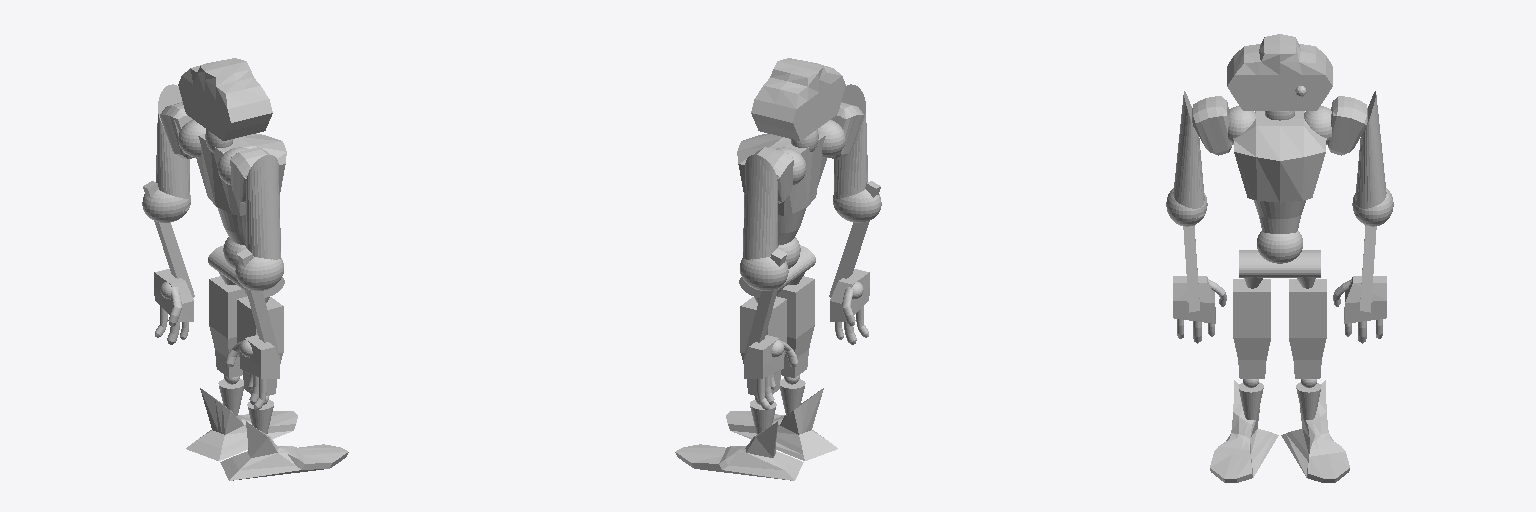
File: Greg.obj
3 renders of one model, left to right at view 1: azimuth 30°, elevation 25°; view 2: azimuth 150°, elevation 25°; view 3: azimuth 270°, elevation 25°, orthographic.
Parts seen in each view (by area): view 1: Cube.001, Cube.007, Cylinder.002, Cube, Cube.004, Cube.005, Cube.002, Cube.003, Sphere.001, Cylinder, Cylinder.001; view 2: Cube.001, Cube.007, Cylinder.002, Cube, Cube.004, Cube.005, Cube.002, Cube.003, Sphere.001, Cylinder, Cylinder.001; view 3: Cube, Cube.007, Cube.002, Cube.001, Cylinder.002, Cube.005, Cube.003, Cube.004, Cylinder, Cylinder.001, Sphere.001, Sphere.
Boxes of the visible parts, <box> form: Cube.001: <box>186,388,348,480</box>; Cube.007: <box>178,58,272,140</box>; Cylinder.002: <box>156,84,280,259</box>; Cube: <box>209,276,283,433</box>; Cube.004: <box>142,181,283,360</box>; Cube.005: <box>154,269,279,409</box>; Cube.002: <box>196,133,286,215</box>; Cube.003: <box>160,102,269,203</box>; Sphere.001: <box>178,120,247,184</box>; Cylinder: <box>208,245,284,297</box>; Cylinder.001: <box>217,207,245,245</box>; Cube.001: <box>675,388,837,480</box>; Cube.007: <box>751,58,845,140</box>; Cylinder.002: <box>743,84,867,259</box>; Cube: <box>740,276,814,433</box>; Cube.004: <box>740,181,881,360</box>; Cube.005: <box>744,269,869,409</box>; Cube.002: <box>737,133,826,215</box>; Cube.003: <box>754,102,863,203</box>; Sphere.001: <box>776,120,845,184</box>; Cylinder: <box>739,245,815,297</box>; Cylinder.001: <box>778,207,806,245</box>; Cube: <box>1233,279,1326,419</box>; Cube.007: <box>1227,34,1332,110</box>; Cube.002: <box>1233,111,1326,202</box>; Cube.001: <box>1210,380,1349,482</box>; Cylinder.002: <box>1173,91,1386,218</box>; Cube.005: <box>1173,276,1386,343</box>; Cube.003: <box>1192,96,1367,155</box>; Cube.004: <box>1166,188,1393,312</box>; Cylinder: <box>1239,250,1320,277</box>; Cylinder.001: <box>1254,200,1305,233</box>; Sphere.001: <box>1228,106,1331,144</box>; Sphere: <box>1257,231,1302,263</box>.
Size of the model in its own units: 3.18 by 9.22 by 4.83.